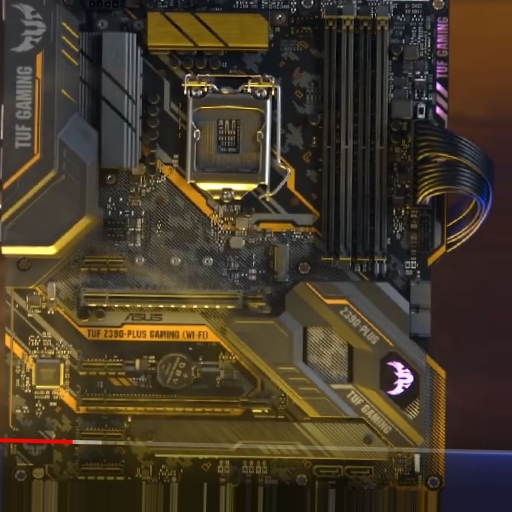CPU: (185, 74, 274, 203)
GPU: (77, 286, 275, 315), (75, 392, 276, 417)
MOTHERBOARD: (1, 1, 451, 486)
RAM: (322, 6, 387, 273)
SSD: (266, 243, 291, 283)
